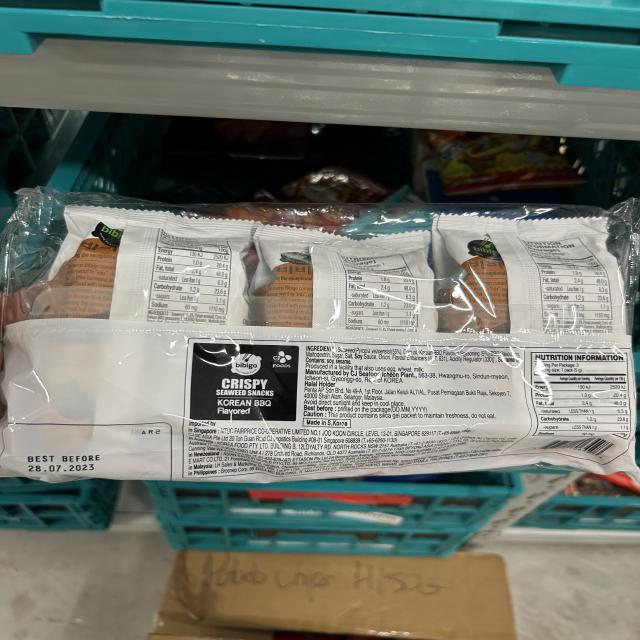object_name: (12, 209, 640, 467)
